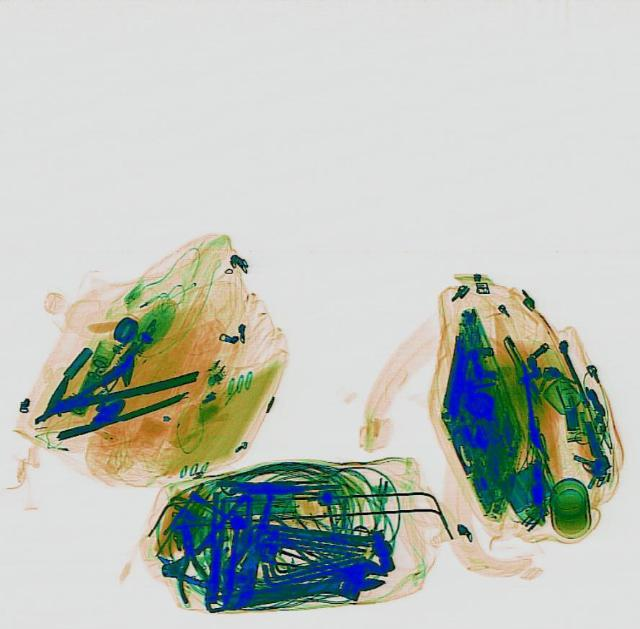Pliers: (156, 533, 234, 595)
Wrench: (206, 553, 390, 626)
